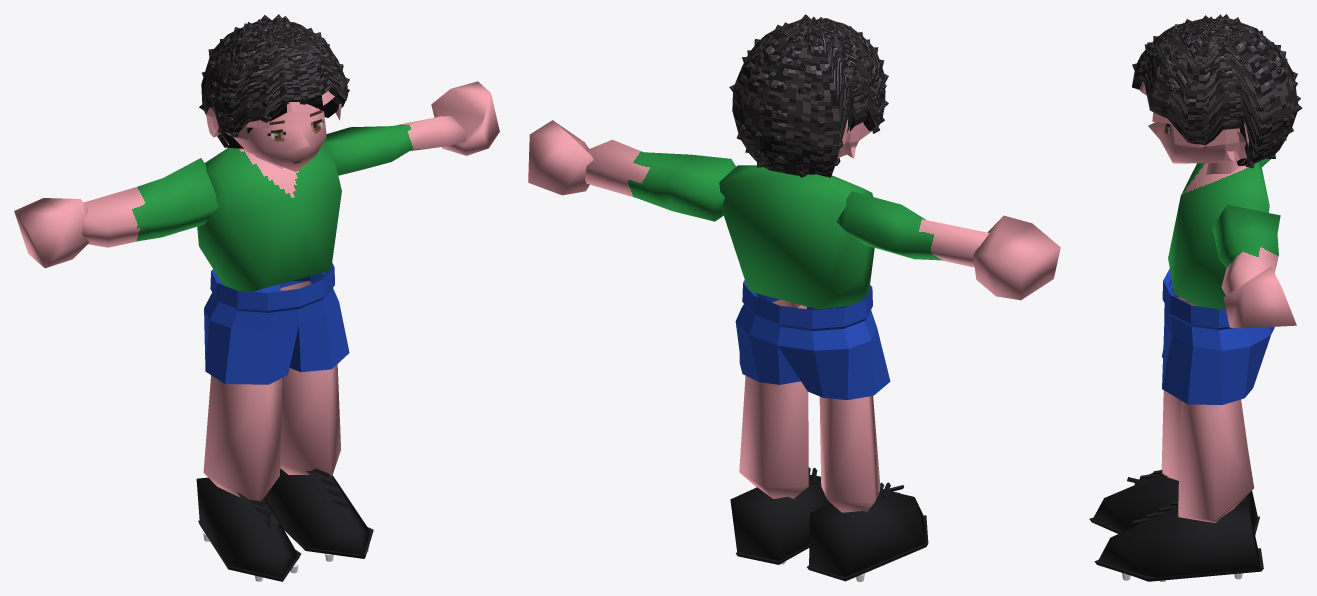
File: 04-cacheado-curto_preto.glb
3 views of the same model, side by side, from view 1: azimuth 30°, elevation 25°; view 2: azimuth 150°, elevation 25°; view 3: azimuth 270°, elevation 25° (orthographic). The views are drawn at different scales.
Visible parts, largest first — view 1: Camisa_Tronco, Bermuda, Cabelo, Perna.R, Braco.R, Perna.L, Chuteira.R, Chuteira.L, Braco.L, Mao.R, Cabeca, Mao.L (+2 smaller); view 2: Cabelo, Camisa_Tronco, Bermuda, Perna.L, Braco.L, Chuteira.R, Perna.R, Braco.R, Mao.R, Chuteira.L, Mao.L, Chuteira_Sola.R; view 3: Cabelo, Bermuda, Chuteira.L, Camisa_Tronco, Perna.L, Braco.L, Mao.L, Chuteira.R, Perna.R, Cabeca, Couro_Cabeludo, Chuteira_Sola.L (+3 smaller).
Boxes of the visible parts, box(x1,y1,x2,y2) form: Camisa_Tronco: box(197, 143, 341, 291); Bermuda: box(204, 263, 349, 384); Cabelo: box(199, 14, 349, 148); Perna.R: box(203, 375, 282, 505); Braco.R: box(81, 158, 219, 247); Perna.L: box(280, 280, 340, 476); Chuteira.R: box(196, 477, 299, 578); Chuteira.L: box(265, 468, 369, 555); Braco.L: box(323, 116, 466, 175); Mao.R: box(14, 198, 89, 268); Cabeca: box(233, 108, 326, 171); Mao.L: box(431, 81, 499, 155); Cabelo: box(729, 14, 888, 177); Camisa_Tronco: box(719, 165, 874, 309); Bermuda: box(735, 280, 890, 399); Perna.L: box(739, 299, 808, 498); Braco.L: box(585, 139, 736, 221); Chuteira.R: box(809, 489, 926, 576); Perna.R: box(819, 396, 880, 512); Braco.R: box(836, 191, 989, 267); Mao.R: box(973, 215, 1060, 300); Chuteira.L: box(730, 474, 830, 560); Mao.L: box(528, 120, 593, 195); Chuteira_Sola.R: box(807, 515, 928, 581); Cabelo: box(1132, 14, 1302, 168); Bermuda: box(1162, 268, 1274, 404); Chuteira.L: box(1098, 502, 1260, 581); Camisa_Tronco: box(1168, 161, 1269, 309); Perna.L: box(1178, 400, 1254, 523); Braco.L: box(1212, 204, 1280, 295); Mao.L: box(1223, 266, 1296, 328); Chuteira.R: box(1093, 473, 1257, 531); Perna.R: box(1161, 296, 1246, 480); Cabeca: box(1148, 122, 1237, 163); Couro_Cabeludo: box(1139, 81, 1249, 164); Chuteira_Sola.L: box(1094, 548, 1263, 581).
Size of the model in its own units: 0.4523 by 0.4587 by 0.1662.
Materials: 3 (3 with a texture image).
